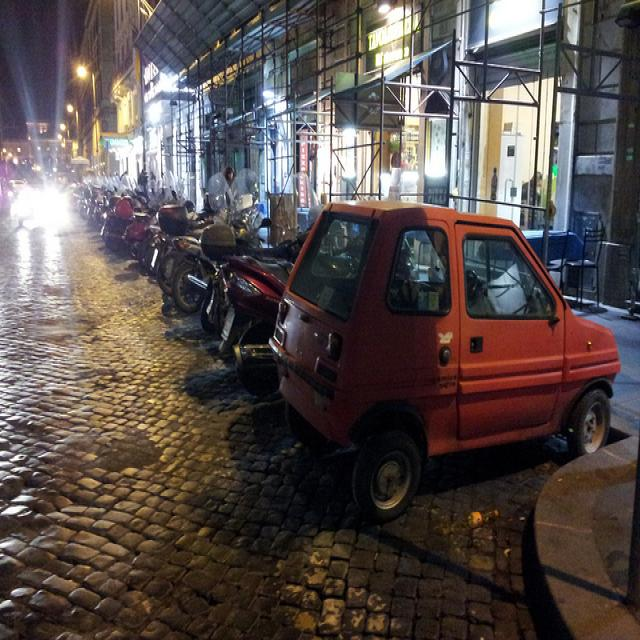motor: (159, 167, 272, 292), (202, 239, 299, 334), (216, 259, 288, 361), (157, 202, 214, 312), (110, 171, 182, 216), (98, 205, 150, 249), (89, 174, 130, 225), (80, 163, 117, 219), (136, 226, 170, 277), (124, 211, 158, 260)
